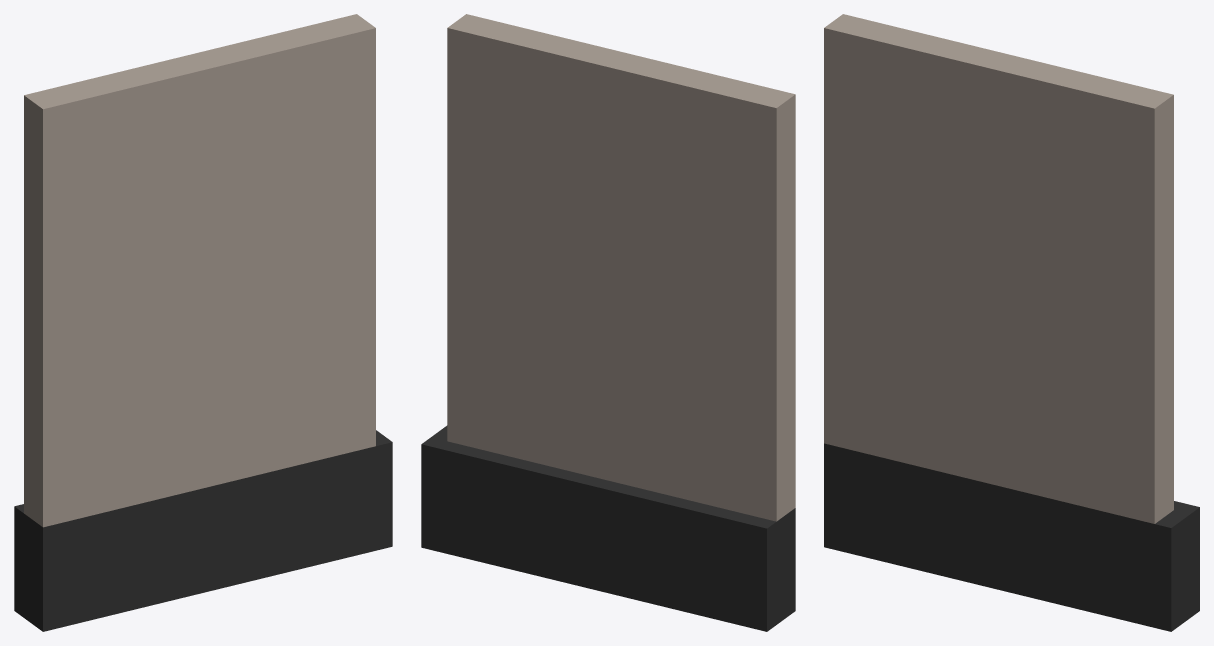
Rendered from Parede_esquerda.fbx.
The picture shows the model from 3 angles, left to right: view 1: azimuth 30°, elevation 25°; view 2: azimuth 150°, elevation 25°; view 3: azimuth 330°, elevation 25°; orthographic projection.
Visible parts, largest first — view 1: Parede.043; view 2: Parede.043; view 3: Parede.043.
Boxes of the visible parts, bbox=[...] form: Parede.043: bbox=[14, 14, 392, 631]; Parede.043: bbox=[421, 14, 795, 631]; Parede.043: bbox=[824, 14, 1199, 631].
Size of the model in its own units: 210 by 300 by 30.01.
